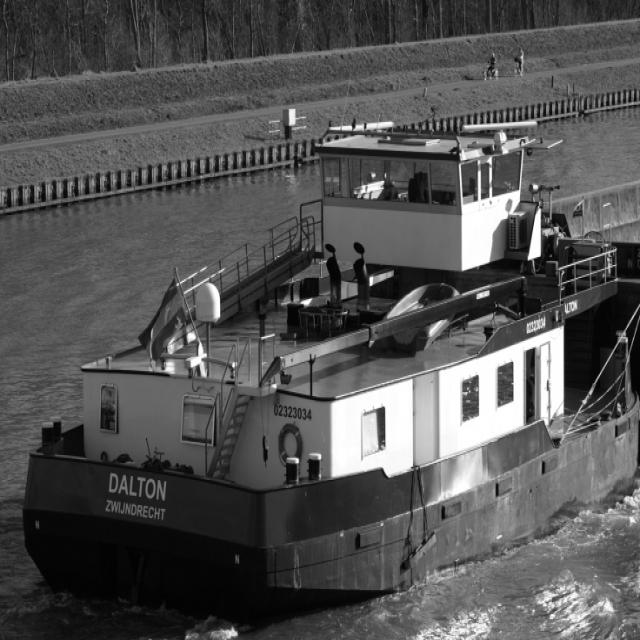tugboat: (17, 120, 640, 623)
